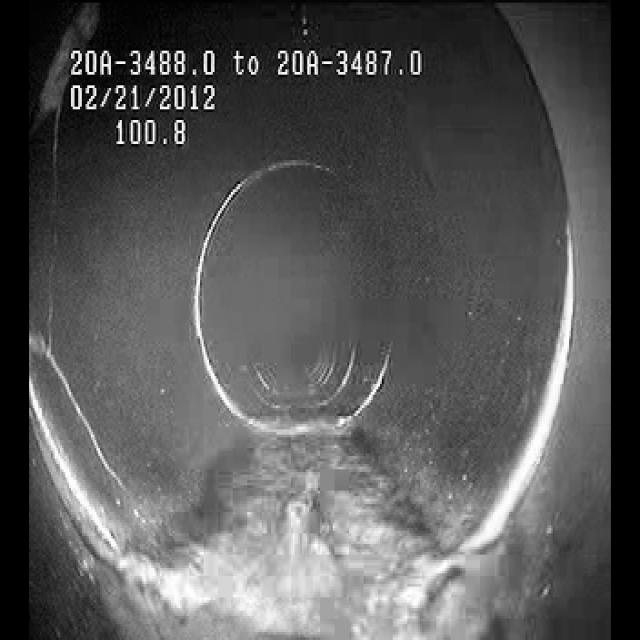Crack: (31, 311, 178, 528)
